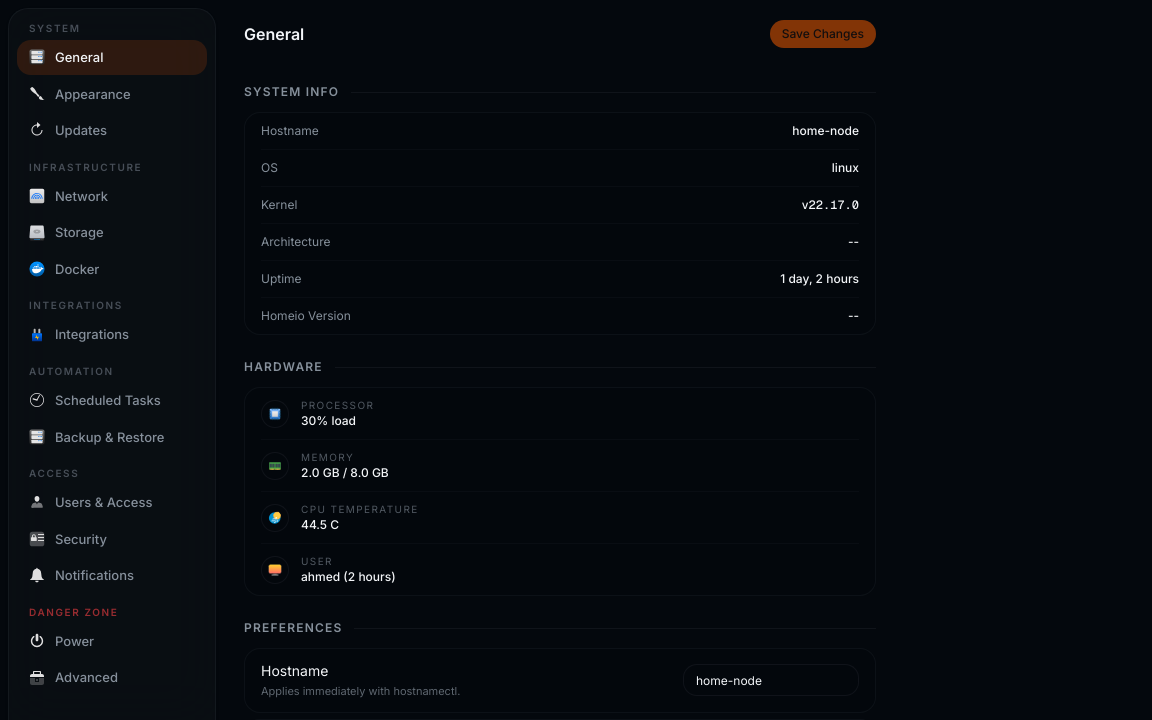
Test: SettingsPanel › renders Network disconnected state
Click the button "Network". click: point(112, 196)
box: x1=17 y1=179 x2=207 y2=213
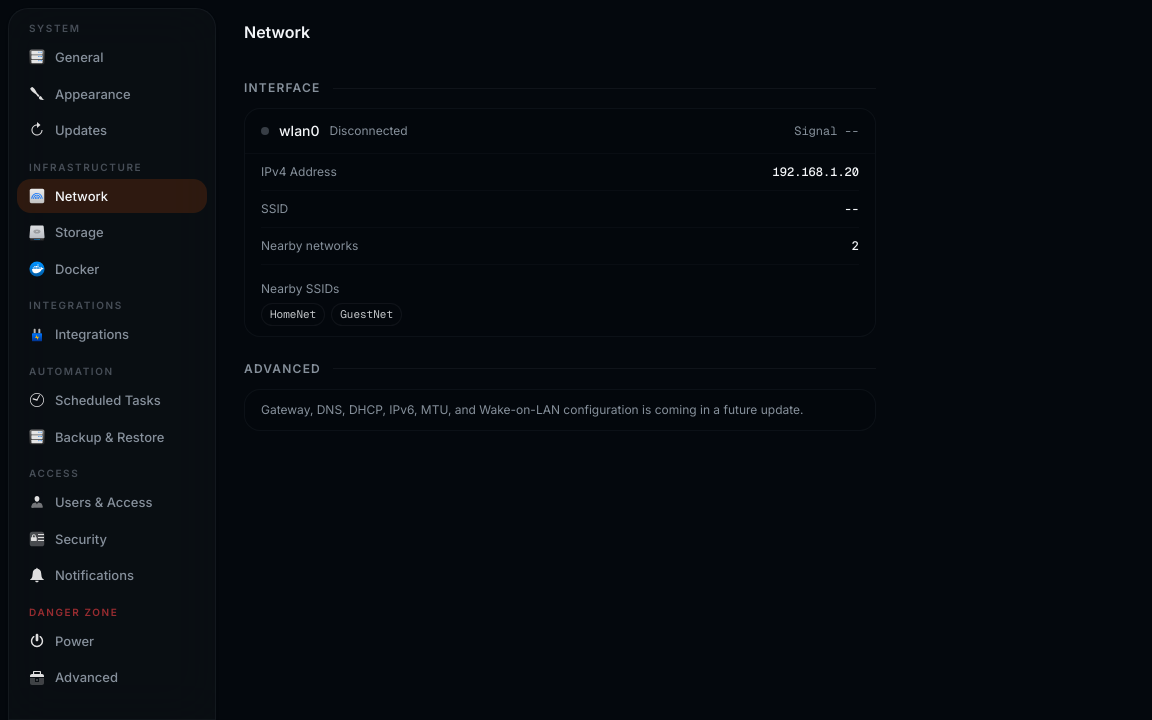
Expected: the text "Disconnected" is shown, x1=330 y1=123 x2=408 y2=139
Expected: the text "Signal --" is shown, x1=794 y1=123 x2=859 y2=139
